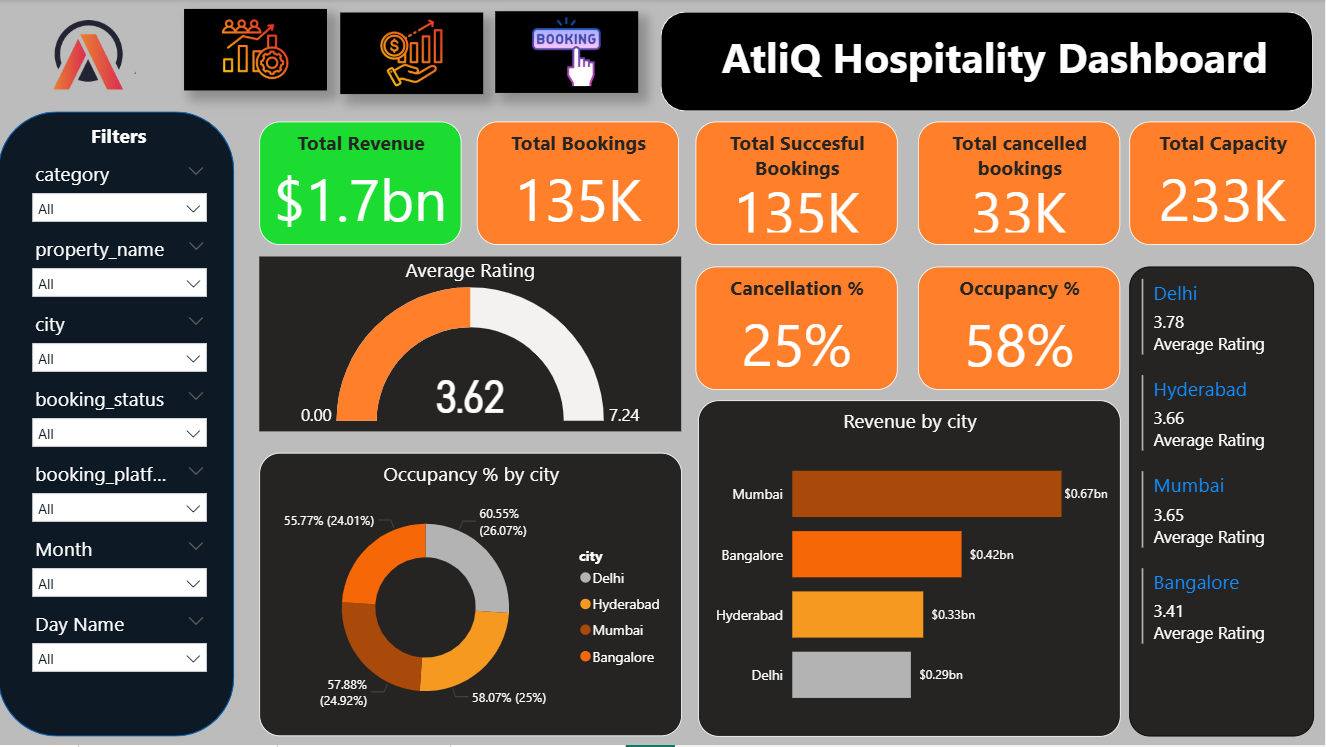

The dashboard page shown, as its layout file describes it:
{"tool":"powerbi","page":{"name":"Booking Overview","canvas":[1280,720],"ordinal":3},"visuals":[{"type":"shape","box":[0,108.6,228,603.2],"z":0},{"type":"slicer","fields":{"Values":["dim_hotels.category"]},"box":[23,150.8,188,70],"z":0,"group":"g1"},{"type":"group","id":"g1","title":"Group 1","box":[22.9,119.4,188.2,535.7],"z":1000},{"type":"slicer","fields":{"Values":["dim_hotels.property_name"]},"box":[22.9,223.2,188.2,70],"z":1000,"group":"g1"},{"type":"card","title":"Total Revenue","fields":{"Values":["key_measures.Revenue"]},"box":[252.5,118,195,119.4],"z":2000},{"type":"slicer","fields":{"Values":["dim_hotels.city"]},"box":[23,295.5,188,70],"z":2000,"group":"g1"},{"type":"card","title":"Total Bookings","fields":{"Values":["key_measures.Total Bookings"]},"box":[462.4,118,195,119.4],"z":3000},{"type":"textbox","title":"Filters","box":[29.5,119.4,174.9,29],"z":3000,"group":"g1"},{"type":"card","title":"Total Succesful Bookings","fields":{"Values":["key_measures.Total Sucessful Bookings"]},"box":[673.8,118,195,119.4],"z":4000},{"type":"slicer","fields":{"Values":["fack_bookings.booking_status"]},"box":[23,367.9,188,70],"z":4000,"group":"g1"},{"type":"card","title":"Total cancelled bookings","fields":{"Values":["key_measures.Total cancelled bookings"]},"box":[887.8,118,195,119.4],"z":5000},{"type":"slicer","fields":{"Values":["fack_bookings.booking_platform"]},"box":[23,440.3,188,70],"z":5000,"group":"g1"},{"type":"card","title":"Total Capacity","fields":{"Values":["key_measures.Total Capacity"]},"box":[1092.3,118,180,119.4],"z":6000},{"type":"slicer","fields":{"Values":["dim_date.date.Variation.Date Hierarchy.Month"]},"box":[23,512.7,188,70],"z":6000,"group":"g1"},{"type":"card","title":"Cancellation %","fields":{"Values":["key_measures.Cancellation Rate (%)"]},"box":[673.8,258,195,119.4],"z":7000},{"type":"slicer","fields":{"Values":["dim_date.Day Name"]},"box":[23,585.1,188,70],"z":7000,"group":"g1"},{"type":"card","title":"Occupancy %","fields":{"Values":["key_measures.Occupancy %"]},"box":[887.8,258,195,119.4],"z":8000},{"type":"gauge","fields":{"Y":["key_measures.Average Rating"]},"box":[252.5,248.4,407.5,168.8],"z":9000},{"type":"clusteredBarChart","fields":{"Y":["key_measures.Revenue"],"Category":["dim_hotels.city"]},"box":[675.6,387.3,407.8,324.5],"z":10000},{"type":"image","box":[179.4,9.7,137.5,78.4],"z":11000,"group":"g2"},{"type":"donutChart","fields":{"Category":["dim_hotels.city"],"Y":["key_measures.Occupancy %"]},"box":[252.1,437.9,407.8,273.9],"z":11000},{"type":"image","box":[329.8,13.6,137.5,78.4],"z":12000,"group":"g2"},{"type":"multiRowCard","fields":{"Values":["key_measures.Average Rating","dim_hotels.city"]},"box":[1091.8,258.2,178.6,453.6],"z":12000},{"type":"image","box":[480.2,12.1,137.5,78.4],"z":13000,"group":"g2"},{"type":"shape","box":[639.4,12.1,629.8,96.5],"z":13000},{"type":"textbox","title":"AtliQ Hospitality Dashboard","box":[673.2,27.7,577.9,61.5],"z":14000},{"type":"image","box":[0,0,166.5,108.6],"z":15000},{"type":"group","id":"g2","title":"Group 2","box":[179.4,9.7,438.3,82.3],"z":16000}]}

Visuals, with their boxes in screenshot pixels (x1, y1, x2, y2), scaled from the page's 1280x720 canvas onto the 1326x747 screenshot:
shape: [0, 113, 236, 738]
slicer - dim_hotels.category: [24, 156, 219, 229]
"Group 1" group: [24, 124, 219, 680]
slicer - dim_hotels.property_name: [24, 232, 219, 304]
"Total Revenue" card: [262, 122, 464, 246]
slicer - dim_hotels.city: [24, 307, 219, 379]
"Total Bookings" card: [479, 122, 681, 246]
"Filters" textbox: [31, 124, 212, 154]
"Total Succesful Bookings" card: [698, 122, 900, 246]
slicer - fack_bookings.booking_status: [24, 382, 219, 454]
"Total cancelled bookings" card: [920, 122, 1122, 246]
slicer - fack_bookings.booking_platform: [24, 457, 219, 529]
"Total Capacity" card: [1132, 122, 1318, 246]
slicer - dim_date.date.Variation.Date Hierarchy.Month: [24, 532, 219, 605]
"Cancellation %" card: [698, 268, 900, 392]
slicer - dim_date.Day Name: [24, 607, 219, 680]
"Occupancy %" card: [920, 268, 1122, 392]
gauge - key_measures.Average Rating: [262, 258, 684, 433]
clusteredBarChart - key_measures.Revenue x dim_hotels.city: [700, 402, 1122, 738]
image: [186, 10, 328, 91]
donutChart - dim_hotels.city x key_measures.Occupancy %: [261, 454, 684, 738]
image: [342, 14, 484, 95]
multiRowCard - key_measures.Average Rating x dim_hotels.city: [1131, 268, 1316, 738]
image: [497, 13, 640, 94]
shape: [662, 13, 1315, 113]
"AtliQ Hospitality Dashboard" textbox: [697, 29, 1296, 93]
image: [0, 0, 172, 113]
"Group 2" group: [186, 10, 640, 95]
